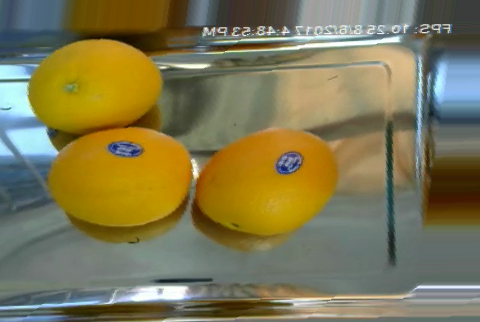Orange: (196, 126, 337, 236), (48, 126, 192, 227), (28, 39, 161, 134)
